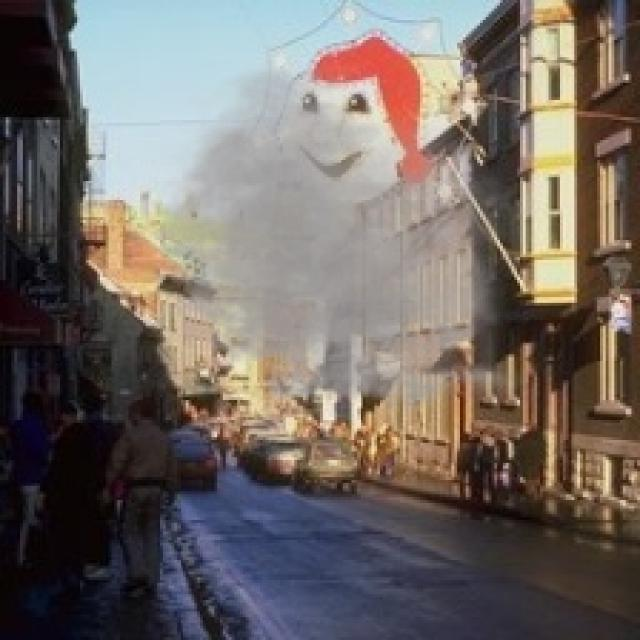smoke: (132, 54, 537, 429)
